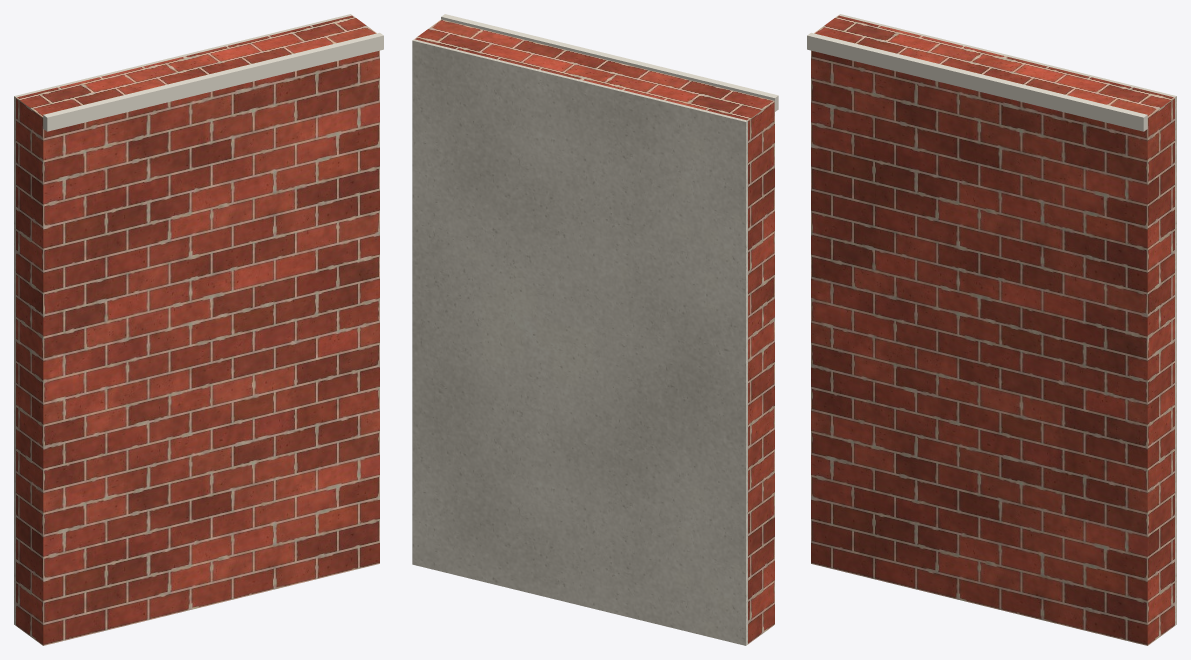
Rendered from wall_brick_plain.glb.
3 views of the same model, side by side, from view 1: azimuth 30°, elevation 25°; view 2: azimuth 150°, elevation 25°; view 3: azimuth 330°, elevation 25° (orthographic).
Visible parts, largest first — view 1: wall_brick_plain_brick, wall_brick_plain_trim, wall_brick_plain_plaster; view 2: wall_brick_plain_plaster, wall_brick_plain_brick, wall_brick_plain_trim; view 3: wall_brick_plain_brick, wall_brick_plain_trim, wall_brick_plain_plaster.
Boxes of the visible parts, x1,y1,x2,y2 form: wall_brick_plain_brick: (16, 15, 379, 645); wall_brick_plain_trim: (43, 32, 383, 131); wall_brick_plain_plaster: (14, 14, 352, 625); wall_brick_plain_plaster: (412, 39, 747, 645); wall_brick_plain_brick: (414, 19, 774, 644); wall_brick_plain_trim: (441, 14, 778, 111); wall_brick_plain_brick: (811, 15, 1174, 645); wall_brick_plain_trim: (807, 32, 1147, 131); wall_brick_plain_plaster: (838, 14, 1176, 625).
Size of the model in its own units: 2 by 3.02 by 0.34.
3 materials, 2 textured.
